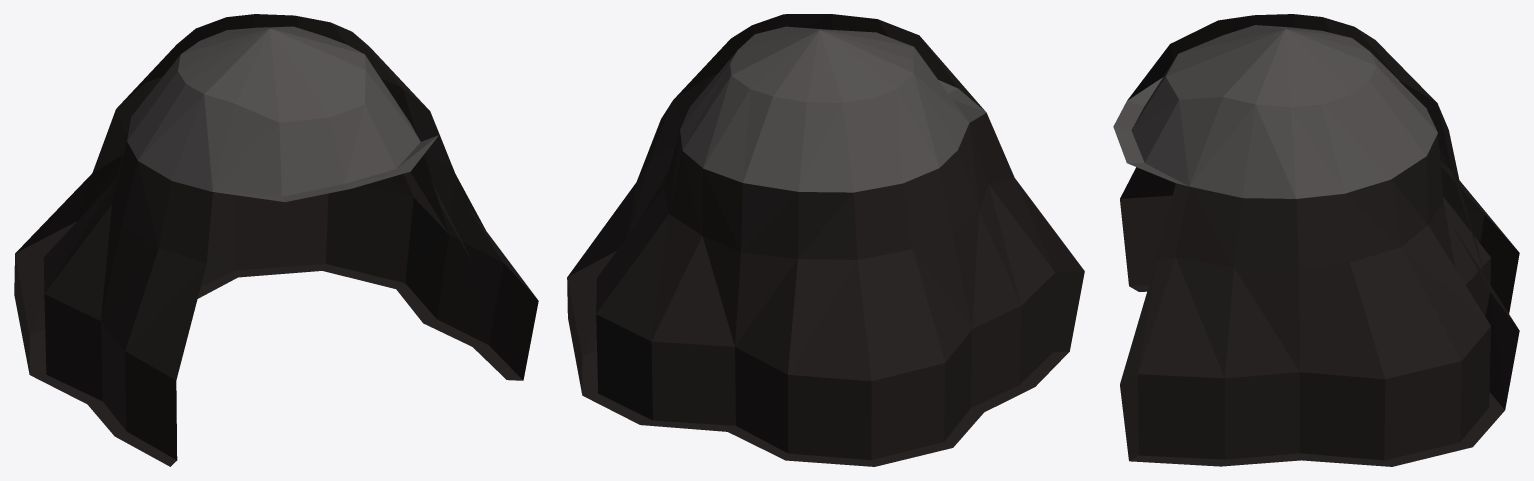
File: hair_bob_01.glb
The picture shows the model from 3 angles, left to right: view 1: azimuth 30°, elevation 25°; view 2: azimuth 150°, elevation 25°; view 3: azimuth 270°, elevation 25°; orthographic projection. The views are drawn at different scales.
Visible parts, largest first — view 1: hair_bob_01; view 2: hair_bob_01; view 3: hair_bob_01.
Part boxes in pixels (x1,y1,x2,y2): hair_bob_01: (14,14,538,466); hair_bob_01: (567,14,1084,466); hair_bob_01: (1113,14,1519,466).
Bounding box in the file's own units: 0.4032 × 0.3268 × 0.3493.
1 material, 1 textured.
